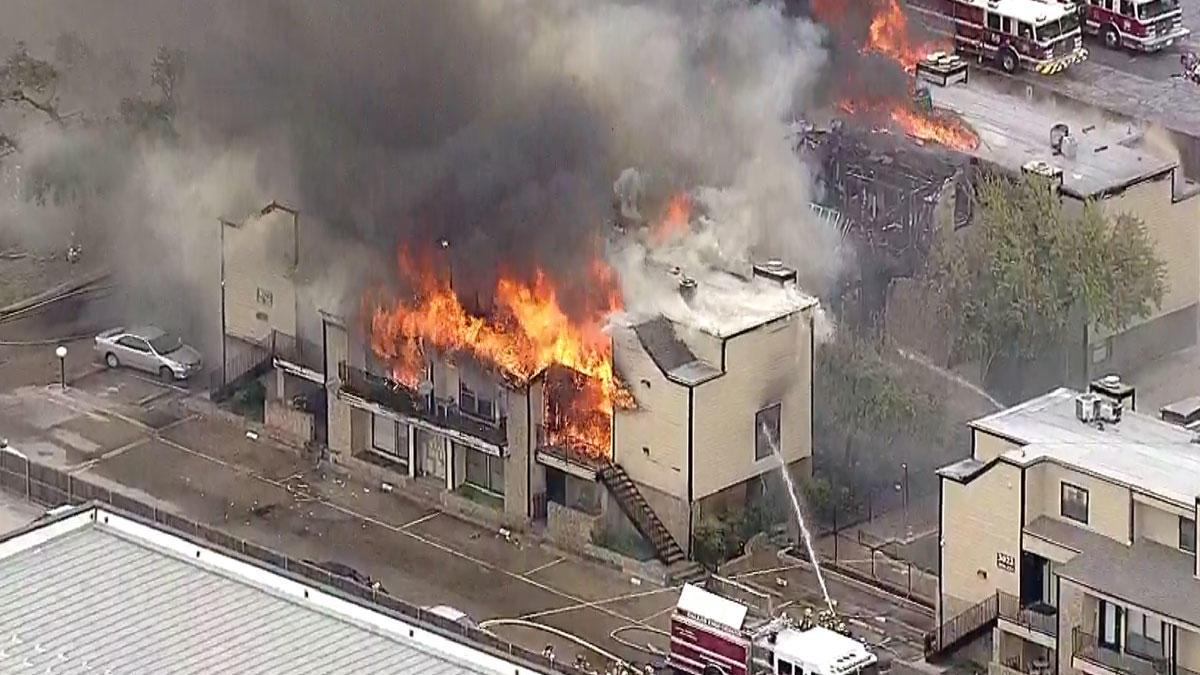Fire: (349, 251, 669, 469), (836, 17, 1002, 155)
